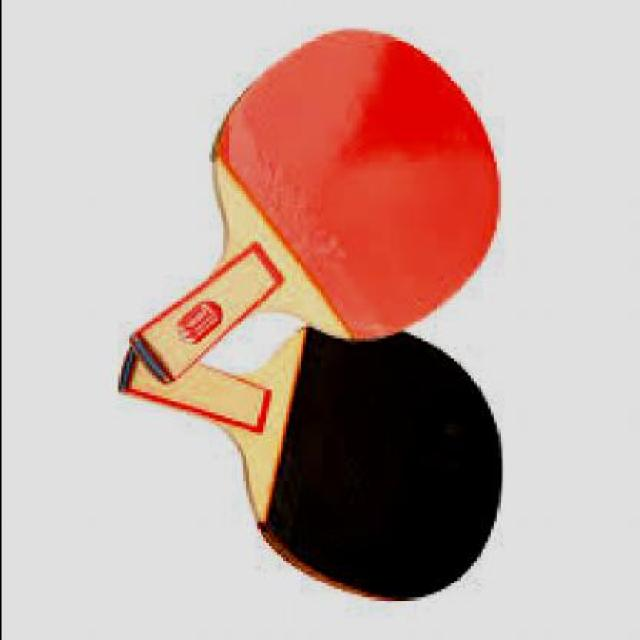table_tennis_racket: (195, 22, 502, 346), (209, 317, 514, 611)
